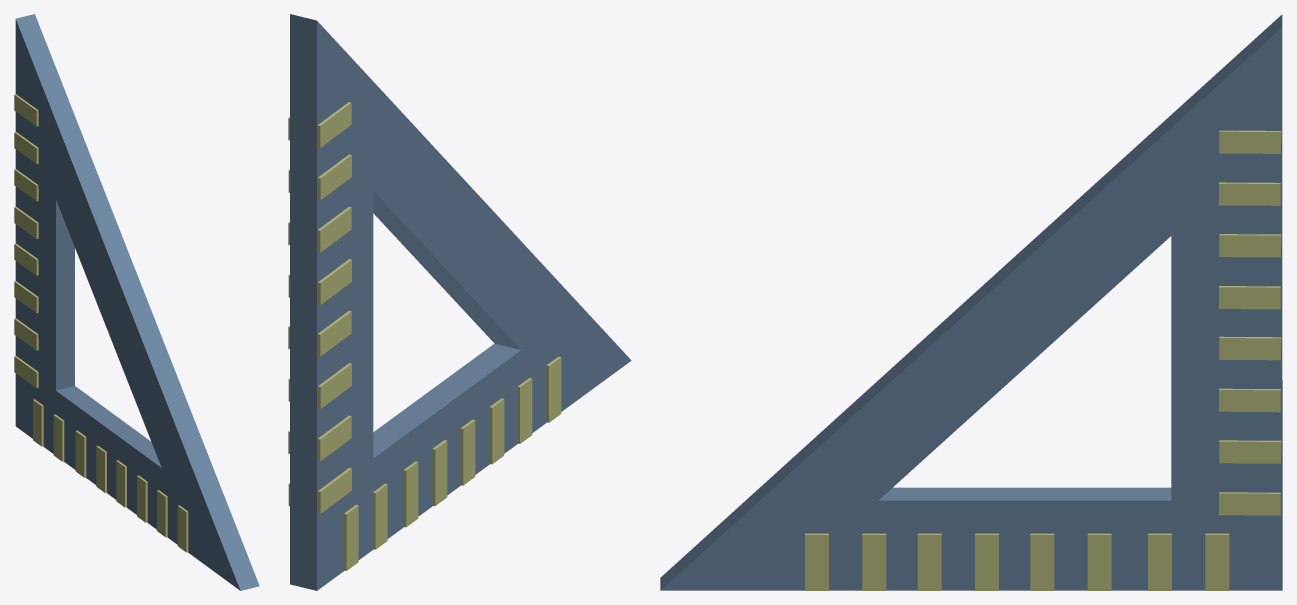
The picture shows the model from 3 angles, left to right: view 1: azimuth 30°, elevation 25°; view 2: azimuth 150°, elevation 25°; view 3: azimuth 270°, elevation 25°; orthographic projection. The views are drawn at different scales.
Visible parts, largest first — view 1: pasted__pCube3; view 2: pasted__pCube3; view 3: pasted__pCube3.
Part boxes in pixels (left/top/right/bottom): pasted__pCube3: left=14, top=14, right=259, bottom=590; pasted__pCube3: left=288, top=14, right=631, bottom=590; pasted__pCube3: left=660, top=14, right=1282, bottom=590.
Bounding box in the file's own units: 0.174 × 2.95 × 2.95.
